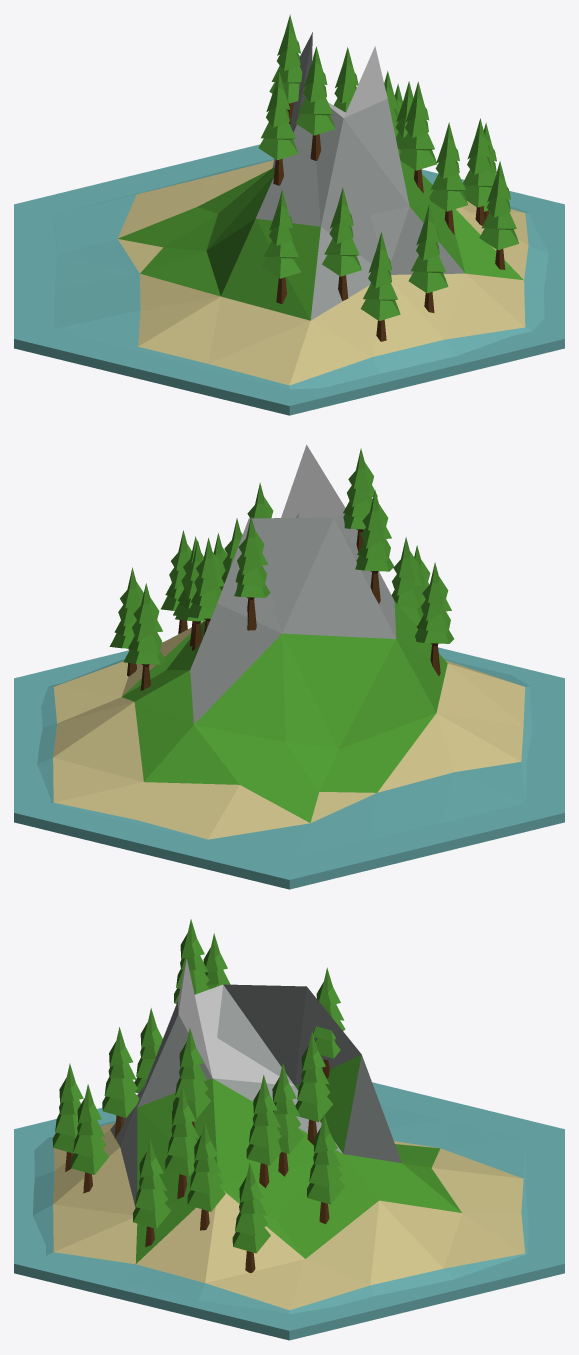
File: thibault.gltf
3 renders of one model, top to bottom at view 1: azimuth 30°, elevation 25°; view 2: azimuth 150°, elevation 25°; view 3: azimuth 270°, elevation 25°, orthographic.
Parts seen in each view (by area): view 1: Mountain.render; view 2: Mountain.render; view 3: Mountain.render.
Part boxes in pixels (bbox=[...]): Mountain.render: bbox=[14, 14, 564, 415]; Mountain.render: bbox=[14, 444, 564, 889]; Mountain.render: bbox=[14, 919, 564, 1340].
Bounding box in the file's own units: 6 × 2.88 × 5.2.
3 materials, 1 textured.
